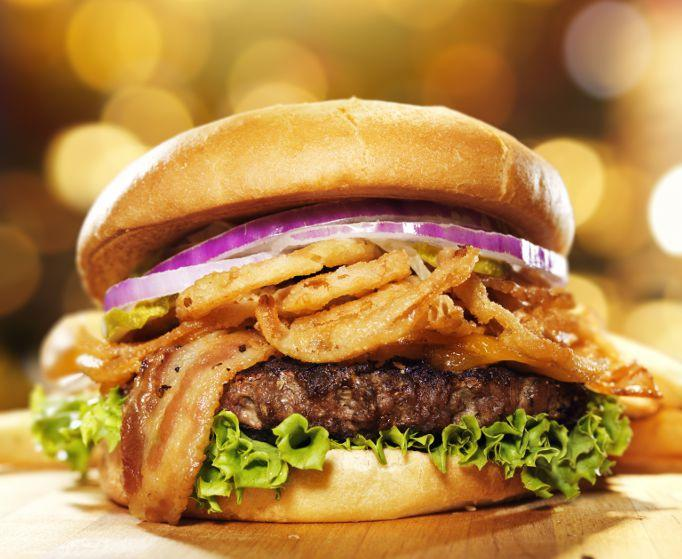hamburger: (63, 111, 632, 534)
